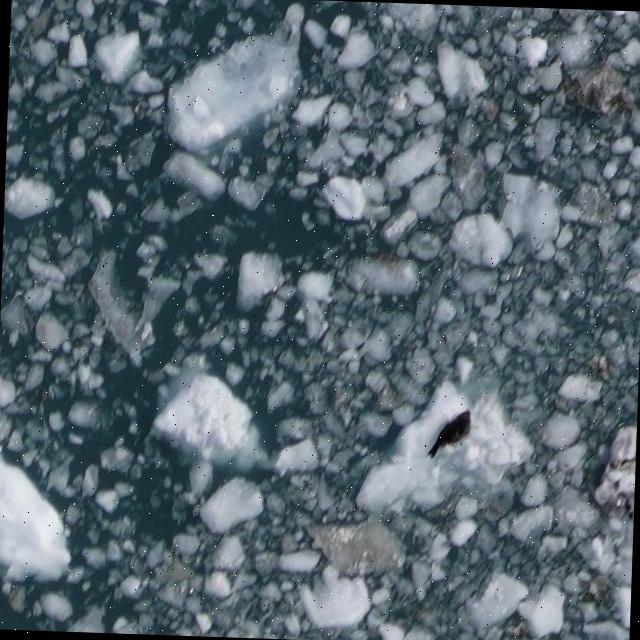seal: (417, 404, 483, 468)
